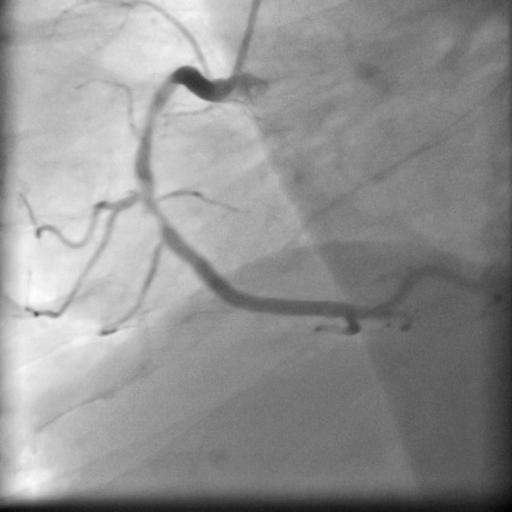Stenosis: (136, 182, 170, 234)
